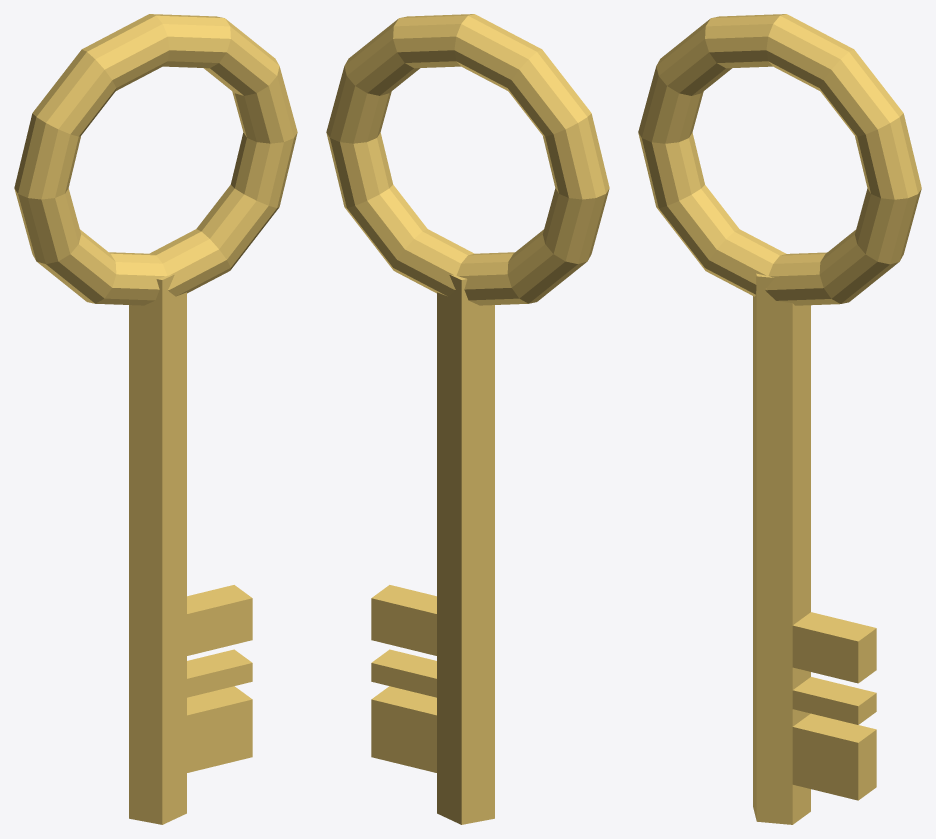
Rendered from key.glb.
3 views of the same model, side by side, from view 1: azimuth 30°, elevation 25°; view 2: azimuth 150°, elevation 25°; view 3: azimuth 330°, elevation 25° (orthographic).
Parts seen in each view (by area): view 1: main_door_key; view 2: main_door_key; view 3: main_door_key.
Part boxes in pixels (bbox=[...]): main_door_key: bbox=[14, 14, 297, 824]; main_door_key: bbox=[326, 14, 609, 824]; main_door_key: bbox=[638, 14, 921, 824].
Bounding box in the file's own units: 0.4822 × 1.33 × 0.0898.
